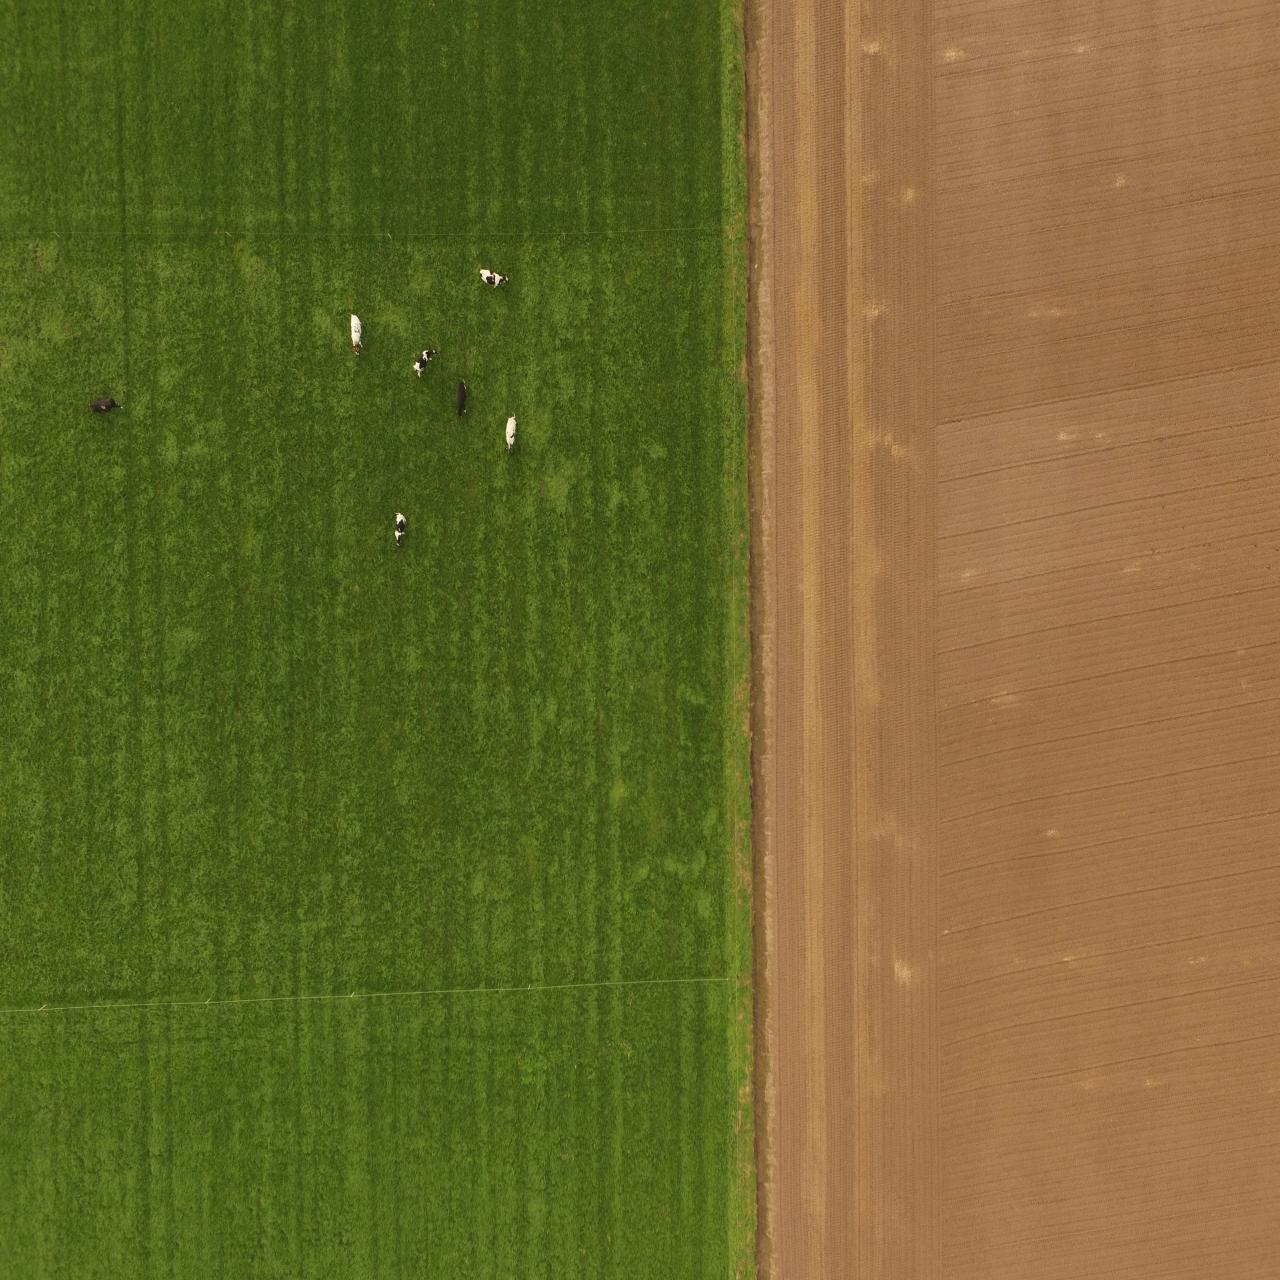cow: (82, 390, 134, 420), (476, 264, 518, 292), (411, 340, 440, 382), (501, 406, 520, 464), (345, 308, 365, 362), (455, 374, 469, 427), (393, 508, 408, 549)
